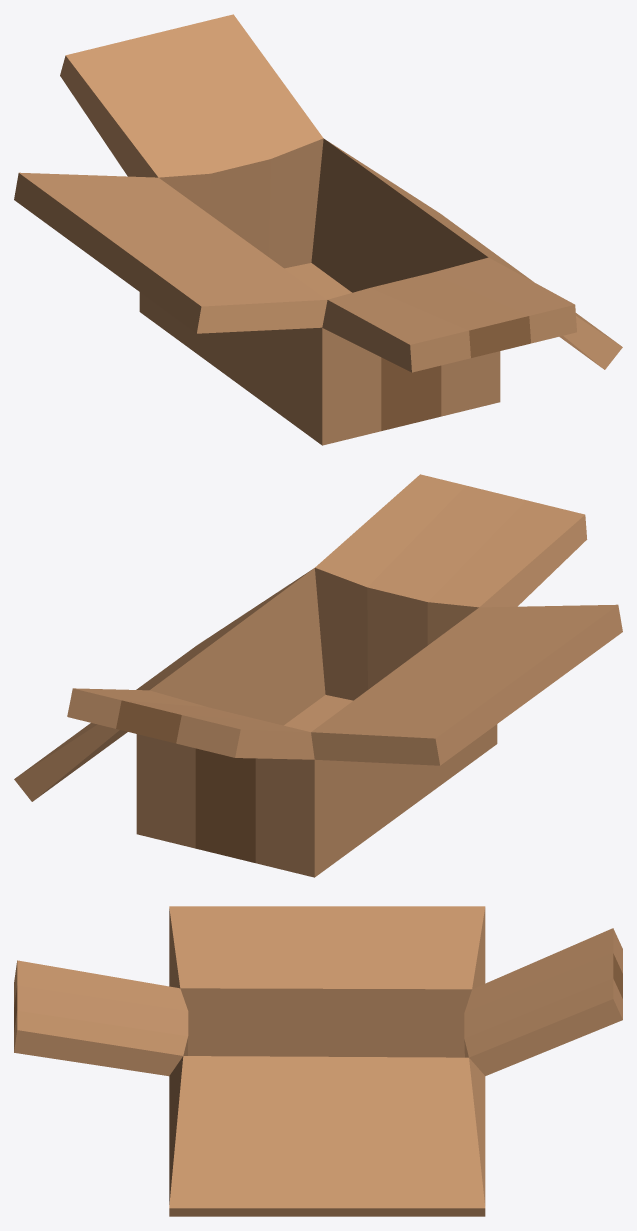
Rendered from BoxOpen5.fbx.
3 renders of one model, top to bottom at view 1: azimuth 30°, elevation 25°; view 2: azimuth 150°, elevation 25°; view 3: azimuth 270°, elevation 25°, orthographic. The views are drawn at different scales.
Parts seen in each view (by area): view 1: BoxOpen5; view 2: BoxOpen5; view 3: BoxOpen5.
Part boxes in pixels (x1,y1,x2,y2): BoxOpen5: (14, 14, 622, 445); BoxOpen5: (14, 474, 622, 877); BoxOpen5: (14, 906, 622, 1216).
Size of the model in its own units: 84.97 by 38.56 by 122.
1 material, 1 textured.
